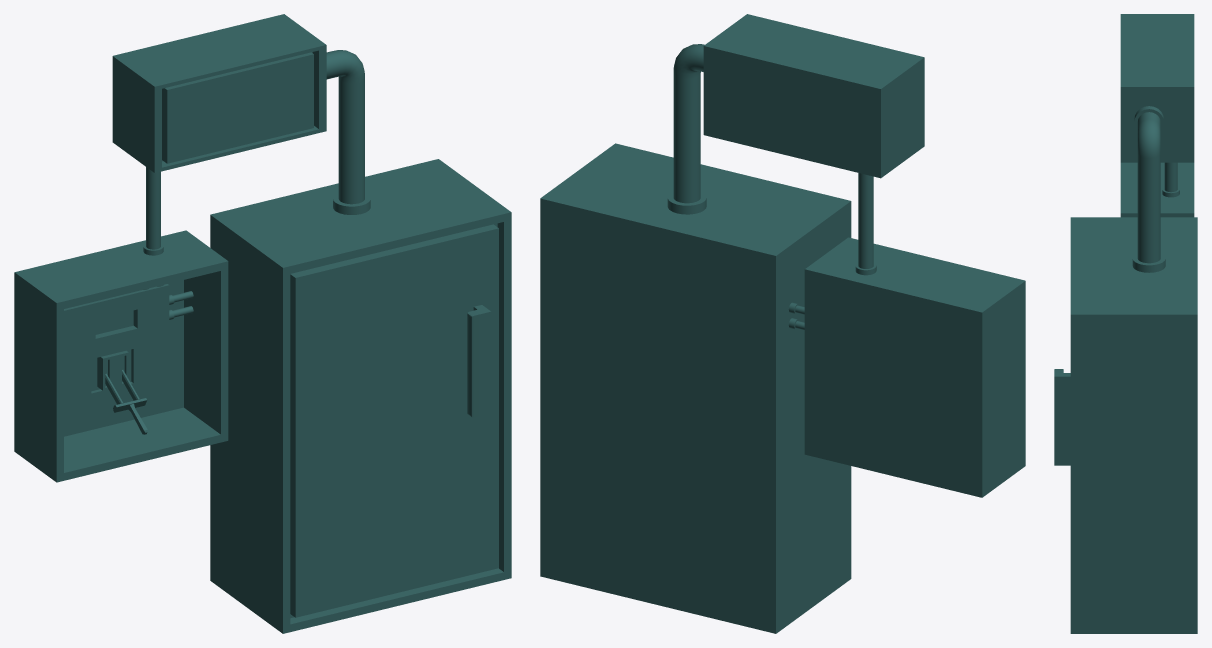
3 renders of one model, left to right at view 1: azimuth 30°, elevation 25°; view 2: azimuth 150°, elevation 25°; view 3: azimuth 270°, elevation 25°, orthographic. The views are drawn at different scales.
Visible parts, largest first — view 1: E_Box_04_low, E_Box_07_low, E_Box_05_low, E_Box_10_low, E_Box_06_low, E_Box_03_low, E_Box_09_low, E_Box_08_low, E_Box_02_low, E_Box_11_low, E_Box_01_low; view 2: E_Box_04_low, E_Box_07_low, E_Box_05_low, E_Box_06_low, E_Box_02_low; view 3: E_Box_04_low, E_Box_05_low, E_Box_06_low, E_Box_07_low, E_Box_03_low, E_Box_02_low.
Boxes of the visible parts, x1,y1,x2,y2 form: E_Box_04_low: (210,159,511,633); E_Box_07_low: (14,230,228,482); E_Box_05_low: (112,14,326,172); E_Box_10_low: (64,284,169,416); E_Box_06_low: (326,50,370,214); E_Box_03_low: (467,305,491,417); E_Box_09_low: (64,281,176,428); E_Box_08_low: (64,280,183,436); E_Box_02_low: (143,167,163,255); E_Box_11_low: (97,350,128,390); E_Box_01_low: (105,370,147,434); E_Box_04_low: (540,143,851,633); E_Box_07_low: (804,237,1025,497); E_Box_05_low: (703,14,924,178); E_Box_06_low: (667,44,706,214); E_Box_02_low: (855,173,876,275); E_Box_04_low: (1070,217,1197,633); E_Box_05_low: (1120,14,1194,162); E_Box_06_low: (1132,106,1165,272); E_Box_07_low: (1120,162,1194,217); E_Box_03_low: (1054,369,1070,465); E_Box_02_low: (1162,162,1179,197).
Bounding box in the file's own units: 91.89 × 113 × 30.68.
